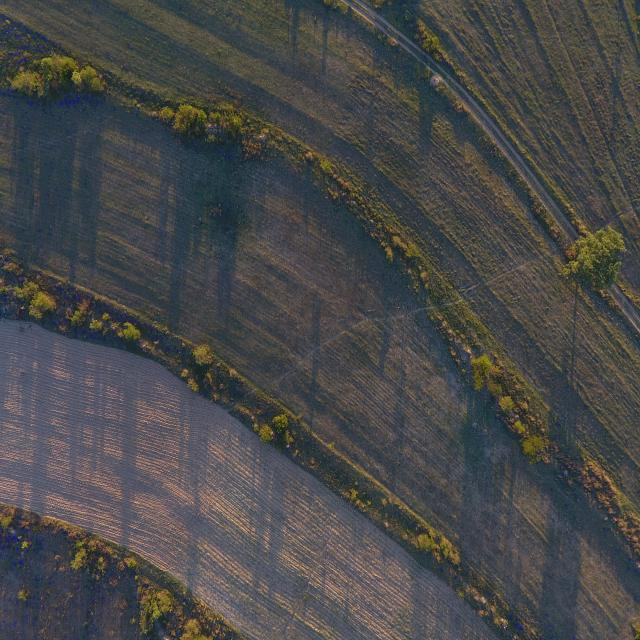boundaries: (18, 29, 630, 539), (18, 253, 524, 633)
